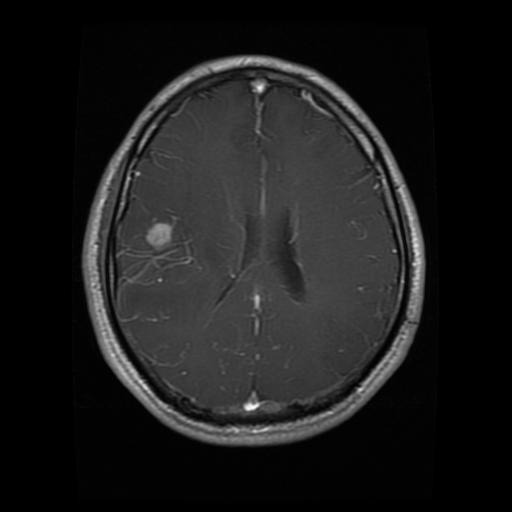Gliomia_tumour: (115, 204, 201, 287)
